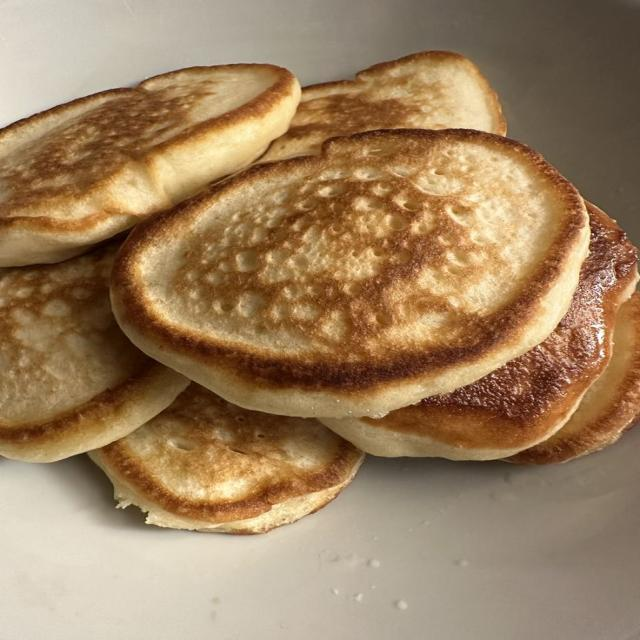pancake: (112, 130, 589, 417), (325, 204, 638, 459), (0, 64, 299, 266), (90, 383, 363, 533), (0, 244, 188, 461), (260, 51, 506, 161), (507, 293, 639, 464)
